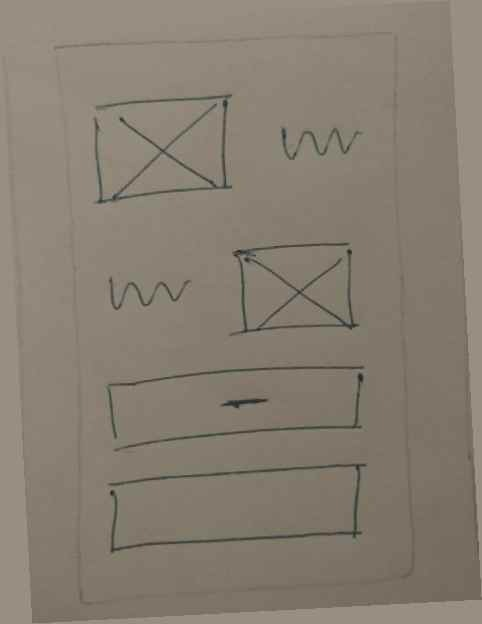button: (100, 357, 379, 456)
image: (80, 78, 245, 214), (219, 233, 365, 345)
text: (263, 106, 370, 178), (101, 262, 196, 320)
text_input: (95, 456, 381, 563)
